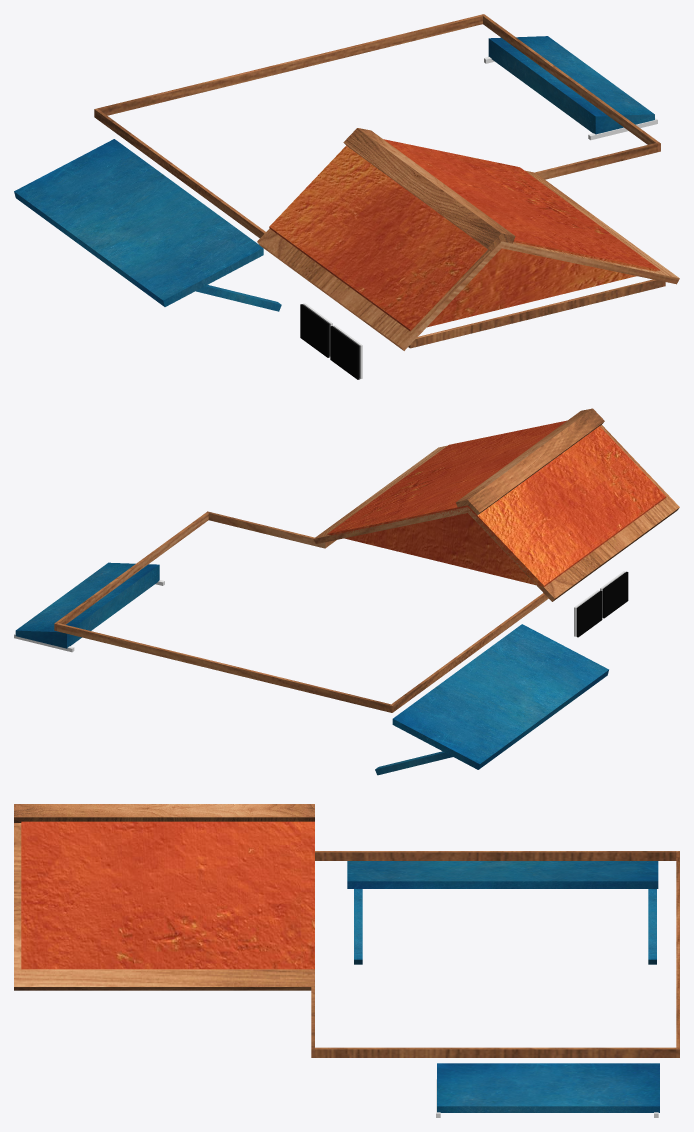
The picture shows the model from 3 angles, top to bottom: view 1: azimuth 30°, elevation 25°; view 2: azimuth 150°, elevation 25°; view 3: azimuth 270°, elevation 25°; orthographic projection. The views are drawn at different scales.
Visible parts, largest first — view 1: Object_3, Object_12, Object_15, Object_10, Object_11, Object_9, Object_1, Object_2, Object_7; view 2: Object_3, Object_12, Object_15, Object_10, Object_11, Object_9, Object_1, Object_2, Object_8; view 3: Object_3, Object_11, Object_12, Object_15, Object_10, Object_9, Object_7, Object_8.
Part boxes in pixels (x1=…): Object_3: x1=269, y1=139, x2=660, y2=331; Object_12: x1=14, y1=139, x2=263, y2=306; Object_15: x1=94, y1=14, x2=665, y2=348; Object_10: x1=257, y1=170, x2=679, y2=350; Object_11: x1=488, y1=36, x2=654, y2=134; Object_9: x1=343, y1=128, x2=515, y2=251; Object_1: x1=330, y1=326, x2=359, y2=379; Object_2: x1=300, y1=304, x2=329, y2=357; Object_7: x1=196, y1=285, x2=281, y2=311; Object_3: x1=327, y1=420, x2=666, y2=586; Object_12: x1=392, y1=624, x2=608, y2=769; Object_15: x1=54, y1=511, x2=548, y2=712; Object_10: x1=313, y1=425, x2=679, y2=601; Object_11: x1=15, y1=562, x2=159, y2=648; Object_9: x1=456, y1=408, x2=604, y2=515; Object_1: x1=602, y1=571, x2=628, y2=618; Object_2: x1=576, y1=590, x2=602, y2=637; Object_8: x1=375, y1=751, x2=452, y2=775; Object_3: x1=21, y1=821, x2=314, y2=969; Object_11: x1=437, y1=1063, x2=659, y2=1112; Object_12: x1=347, y1=861, x2=658, y2=888; Object_15: x1=311, y1=851, x2=679, y2=1057; Object_10: x1=14, y1=823, x2=314, y2=990; Object_9: x1=14, y1=804, x2=314, y2=822; Object_7: x1=354, y1=889, x2=362, y2=964; Object_8: x1=648, y1=889, x2=656, y2=964.
Size of the model in its own units: 751 by 245 by 773.
Materials: 5 (3 with a texture image).
